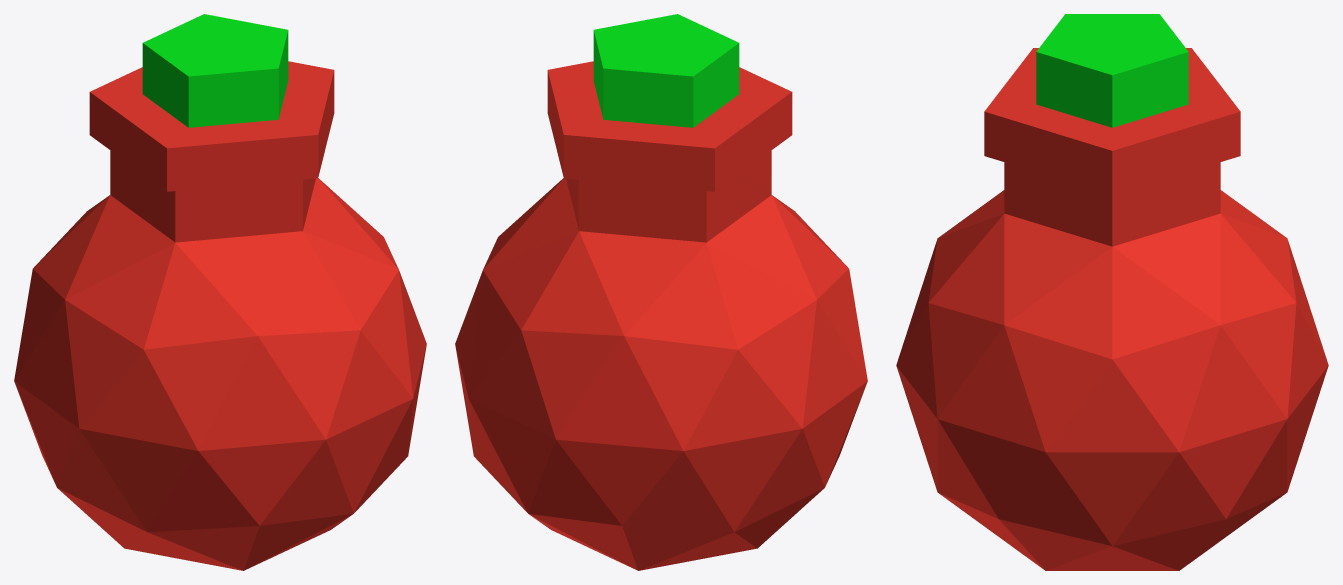
Rendered from Potion1.gltf.
3 views of the same model, side by side, from view 1: azimuth 30°, elevation 25°; view 2: azimuth 150°, elevation 25°; view 3: azimuth 270°, elevation 25° (orthographic). The views are drawn at different scales.
Parts seen in each view (by area): view 1: Icosphere; view 2: Icosphere; view 3: Icosphere.
Boxes of the visible parts, x1,y1,x2,y2 form: Icosphere: (14,14,426,570); Icosphere: (455,14,867,570); Icosphere: (896,14,1328,570).
Size of the model in its own units: 1.9 by 2.65 by 2.
